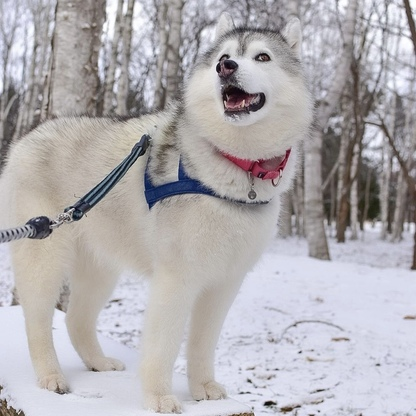husky: (1, 8, 319, 416)
